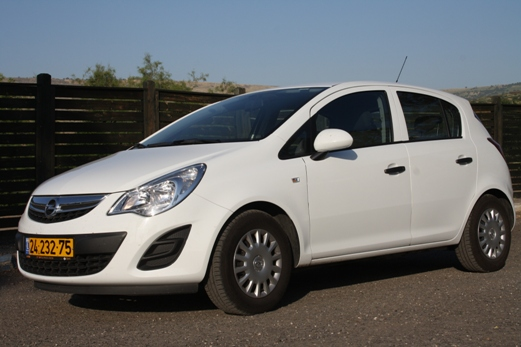licence: (23, 236, 76, 262)
